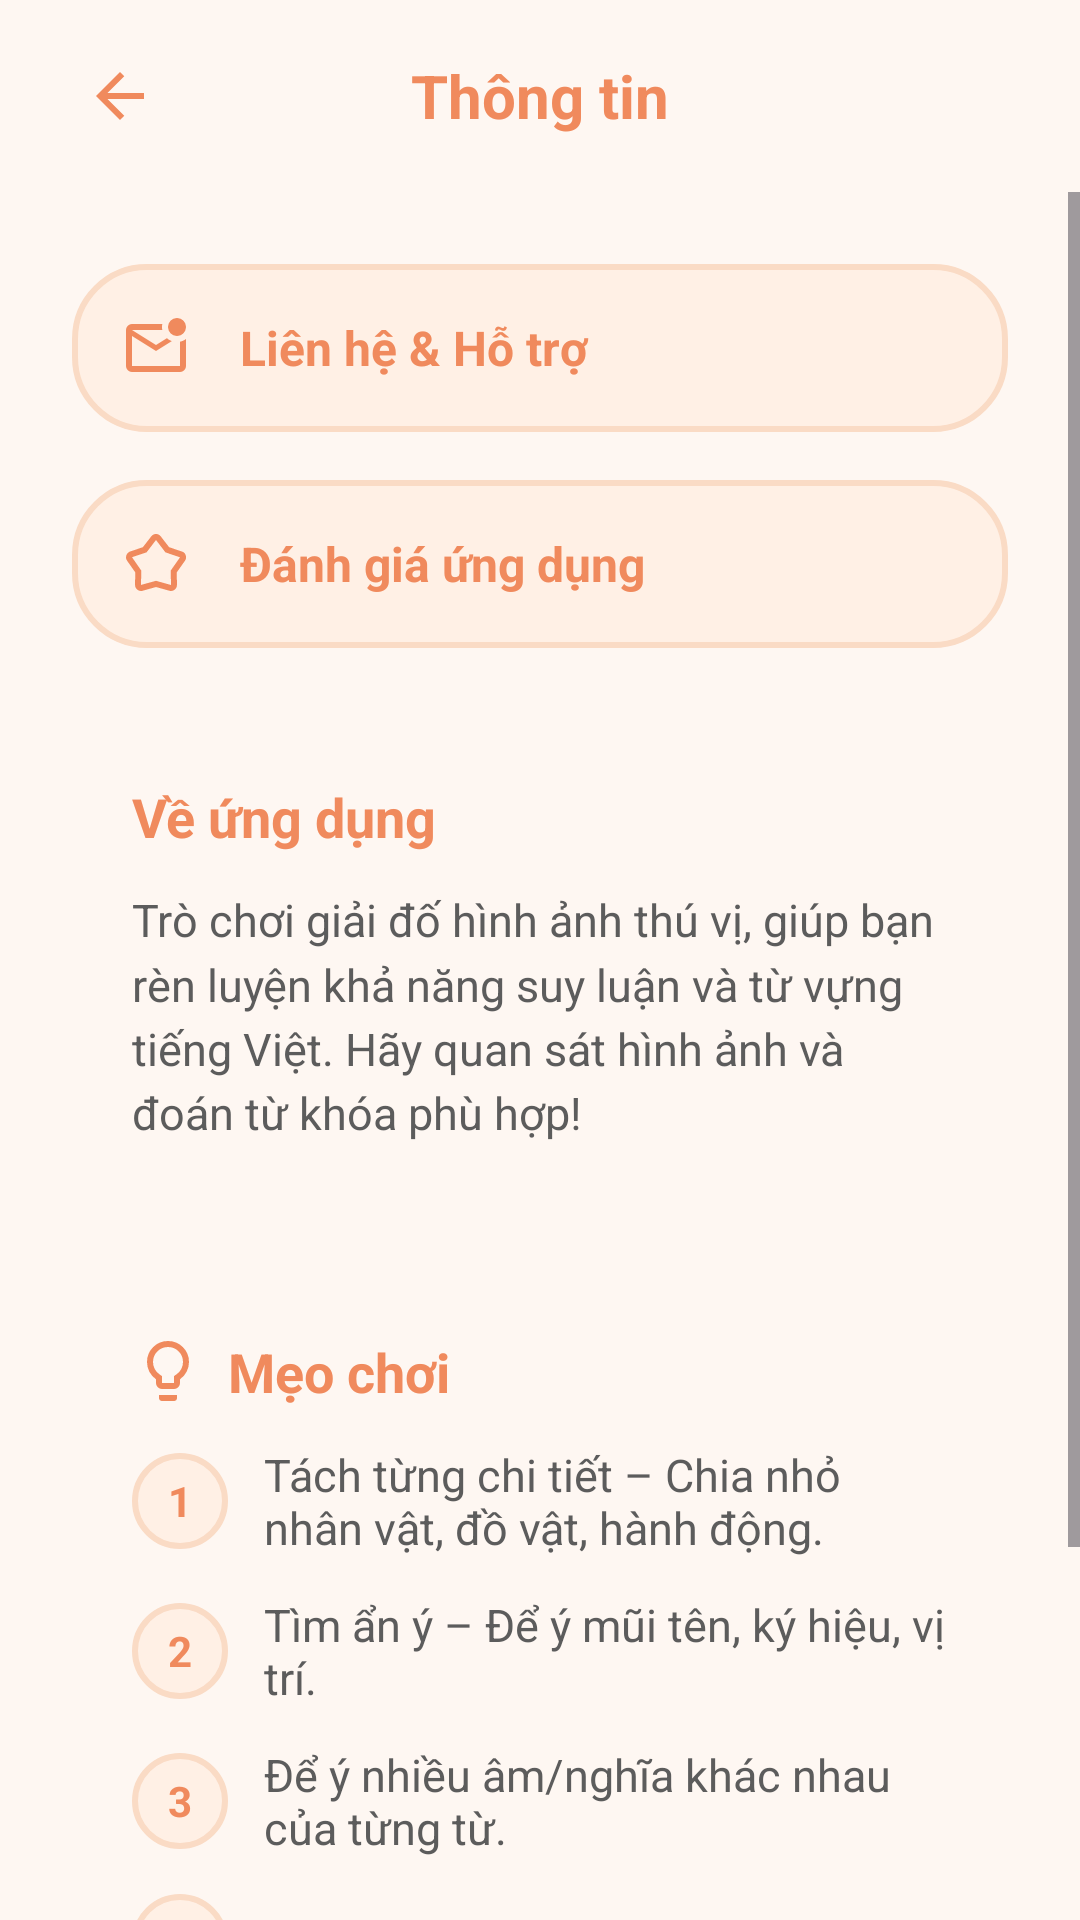

Icon bounding boxes for this 1080*1920 phone screenshot, format bbox=[x1, y1, x2, y2]:
Quay về: bbox=[96, 72, 144, 120]
